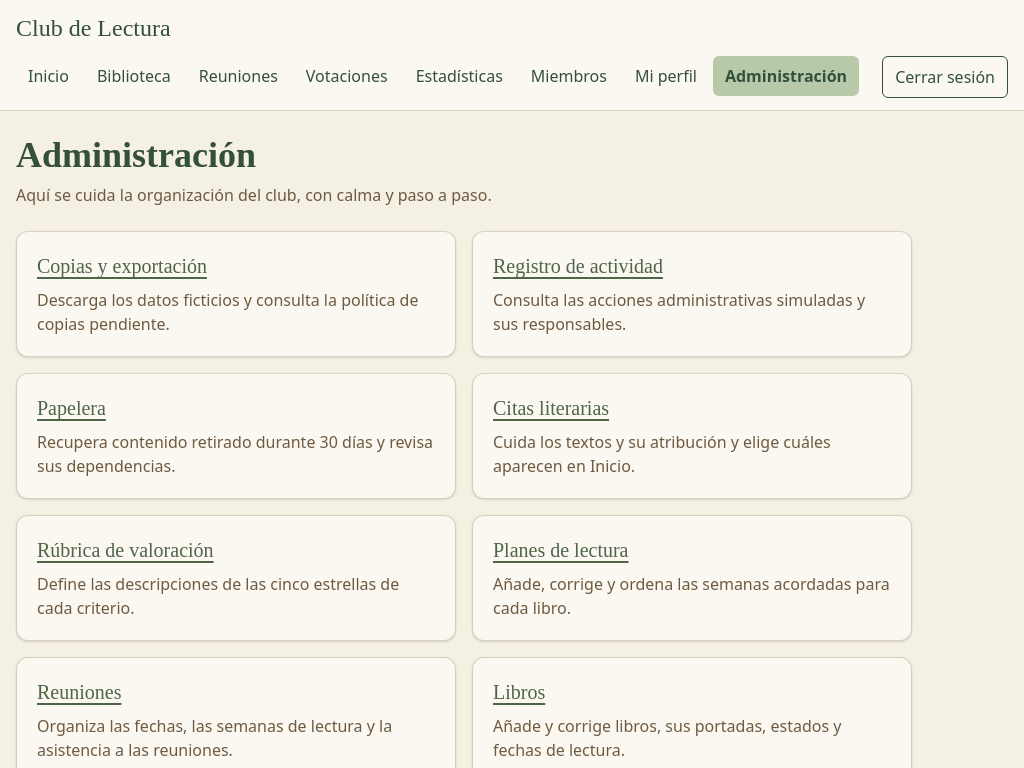
Scenario: recycle bin routing and reads › links from Administration, shows the empty state and a return link
Click the link "Papelera" at (71, 408), box x1=37 y1=397 x2=106 y2=419
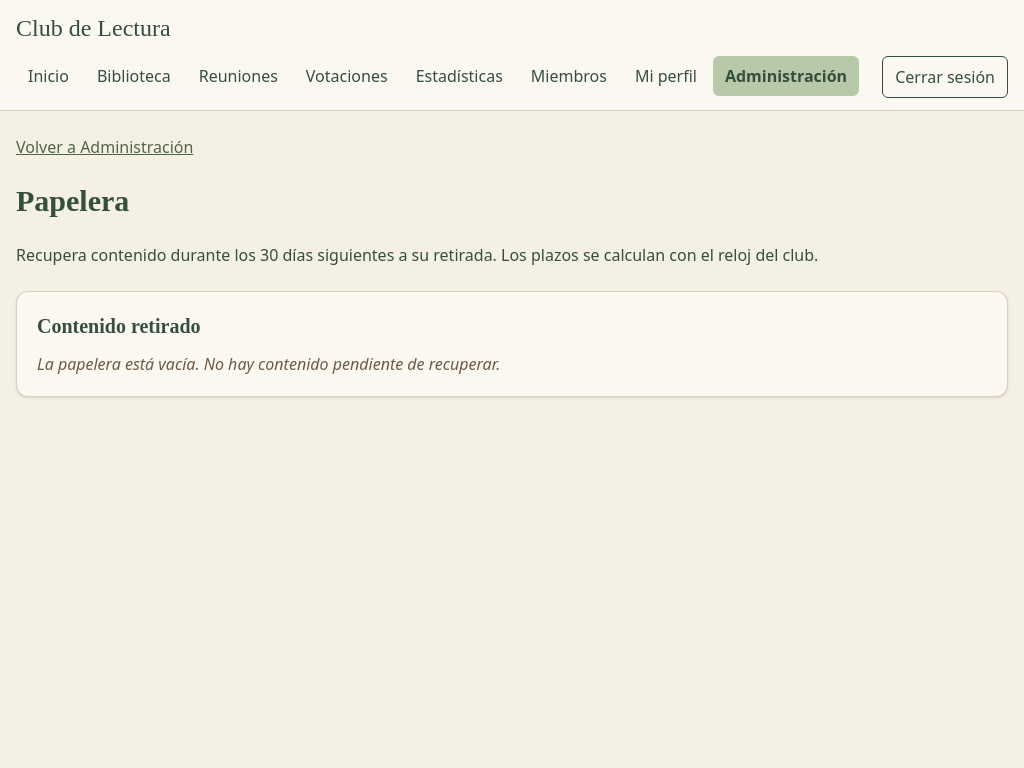
Expected: the text "La papelera está vacía" is shown, x1=37 y1=353 x2=500 y2=375
